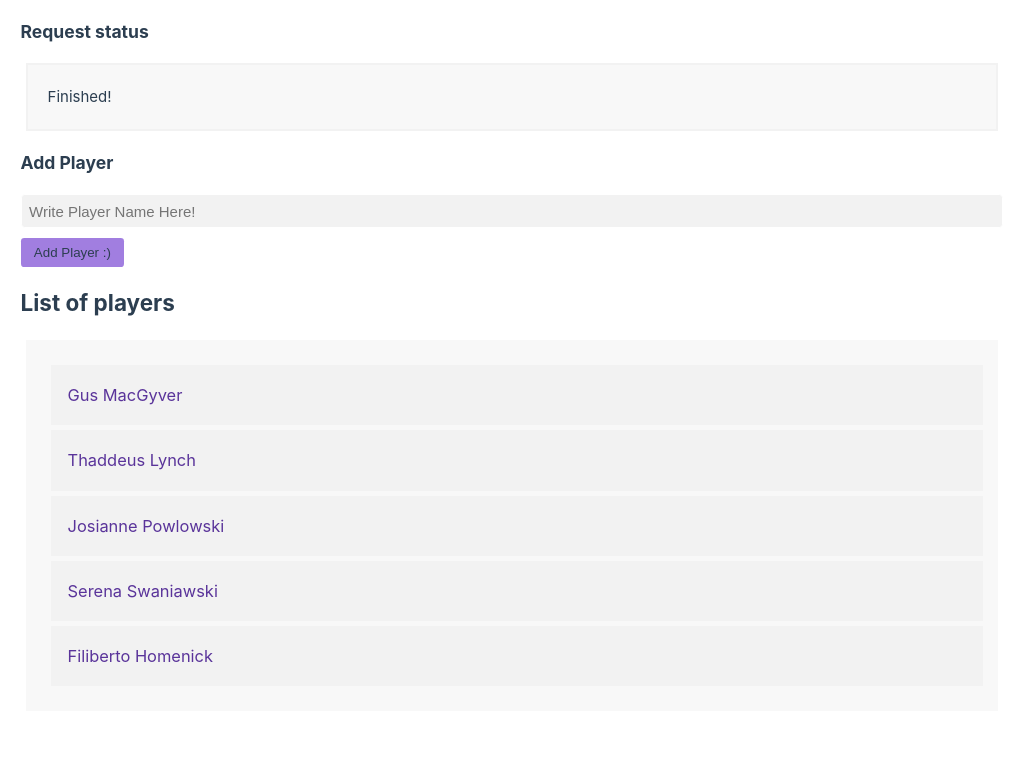
it: should show error status and not delete player if DELETE request fails
Click the link "Thaddeus Lynch": {"x": 132, "y": 460} [50,430,983,491]
(page scrolled)
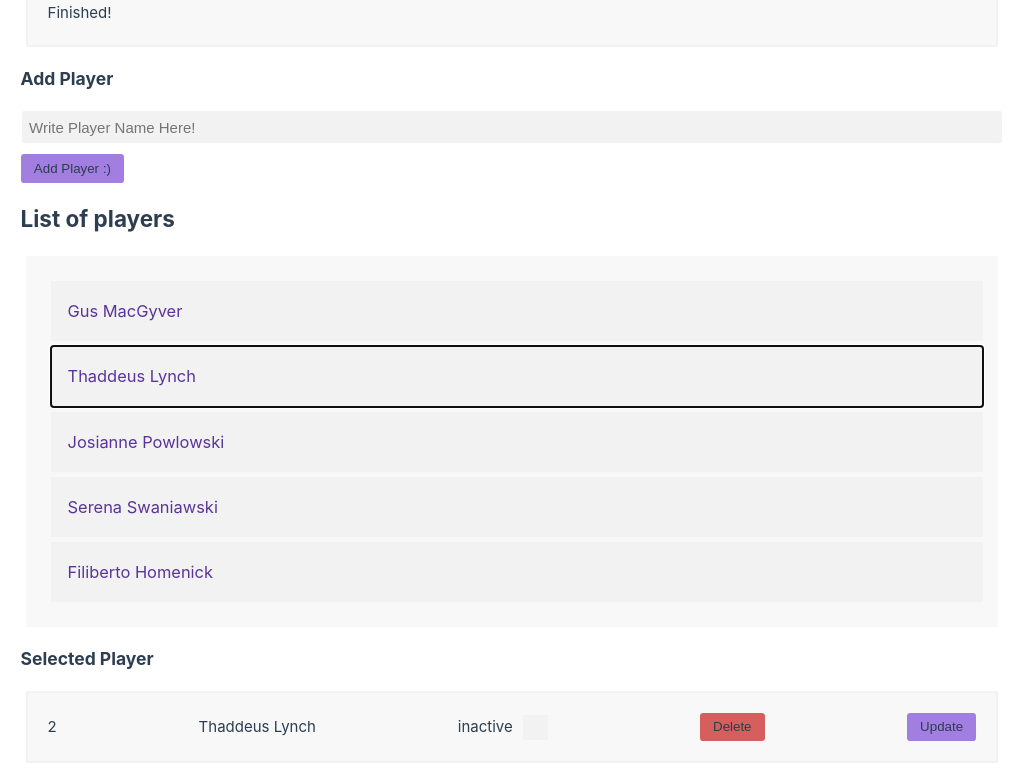
Click the button "Delete": {"x": 732, "y": 727} [700,713,765,741]
(page scrolled)
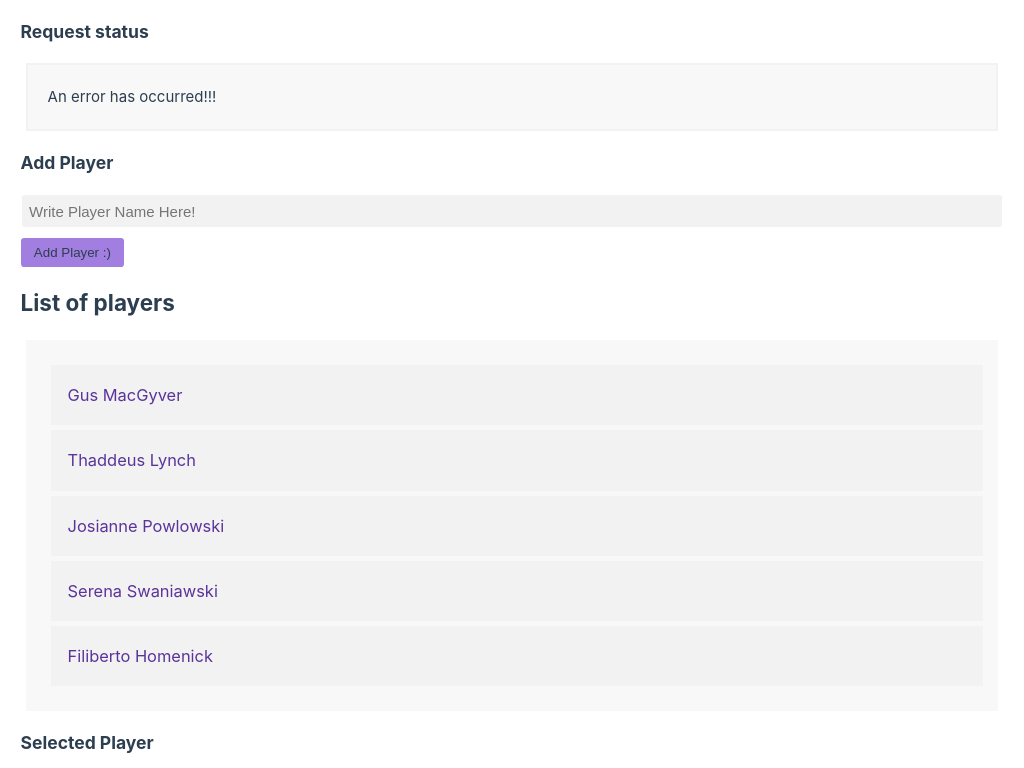
expect the number of list items is 5: met, box [50,365,983,425]; [50,430,983,491]; [50,496,983,556]; [50,561,983,621]; [50,626,983,686]
expect the text "An error has occurred!!!" is shown: met, box [26,63,998,131]
